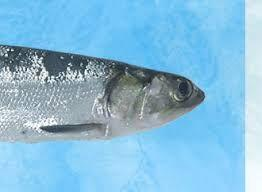Tenpounder: (0, 36, 209, 150)
